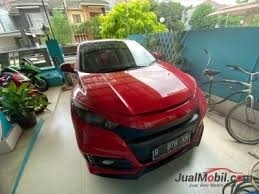plate: (150, 134, 190, 157)
